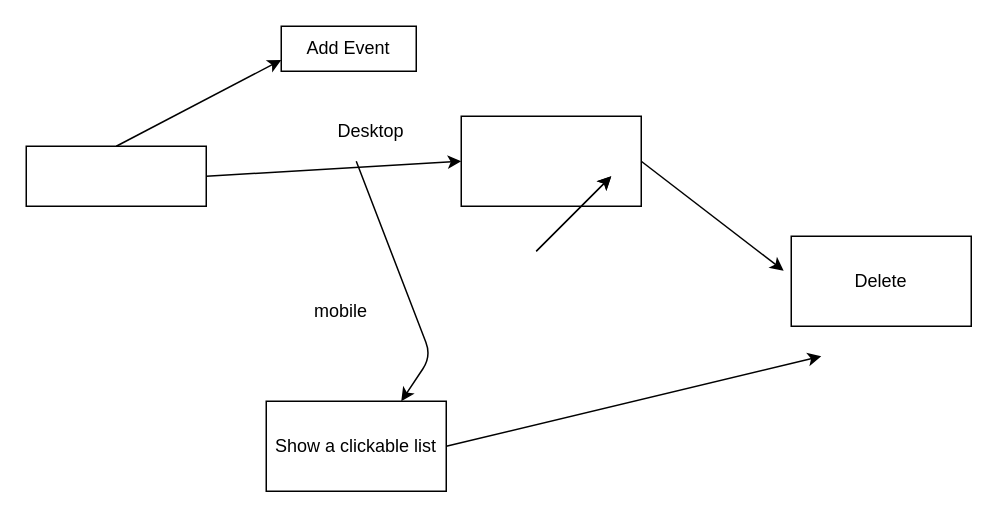
The diagram is 998 pixels wide and 518 high, and some of its shapes have lost their labels. Here are the shapes that lost their labels. From the top down, the centre of each, then its label:
At (x=115, y=175): "LOGIN".
At (x=550, y=160): "SHOW DATES IN BIG CALENDAR".
